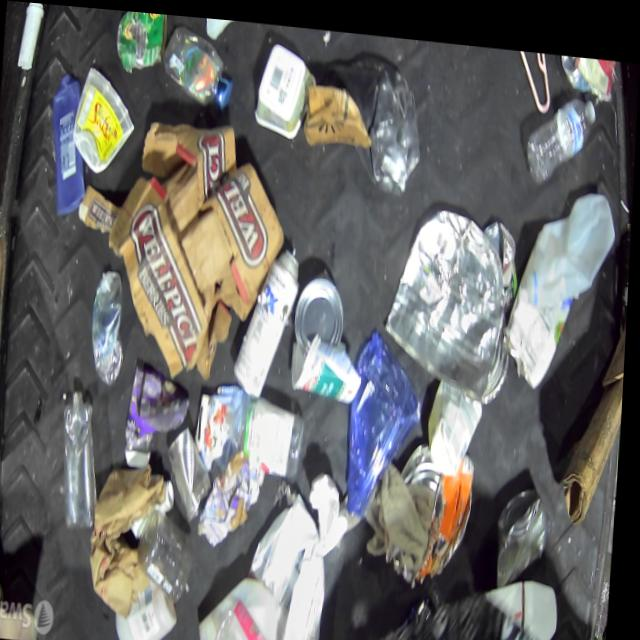can: (383, 194, 508, 392), (392, 433, 479, 577), (234, 235, 303, 397), (502, 281, 575, 381), (496, 474, 554, 574), (165, 419, 219, 517), (294, 268, 346, 350), (114, 8, 167, 73), (482, 208, 522, 272)
milk_jug: (527, 176, 618, 303), (254, 482, 326, 580), (201, 569, 286, 640), (427, 369, 487, 466), (118, 579, 183, 640)
plastic_bottle: (523, 78, 597, 180), (158, 20, 235, 108), (59, 388, 106, 528), (89, 263, 131, 383)
